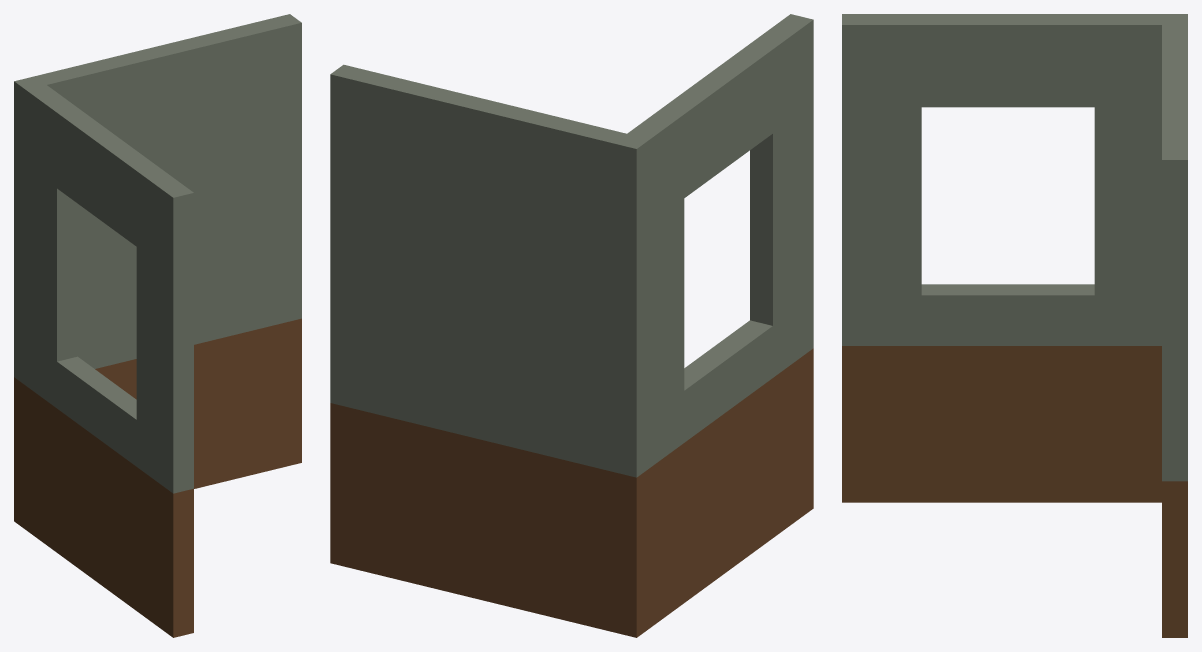
Rendered from Building_24.fbx.
3 renders of one model, left to right at view 1: azimuth 30°, elevation 25°; view 2: azimuth 150°, elevation 25°; view 3: azimuth 270°, elevation 25°, orthographic. The views are drawn at different scales.
Visible parts, largest first — view 1: Building_24; view 2: Building_24; view 3: Building_24.
Boxes of the visible parts, x1,y1,x2,y2 form: Building_24: (14, 14, 301, 637); Building_24: (330, 14, 813, 637); Building_24: (842, 14, 1187, 637).
Bounding box in the file's own units: 162 × 247 × 162.
Materials: 1 (1 with a texture image).
